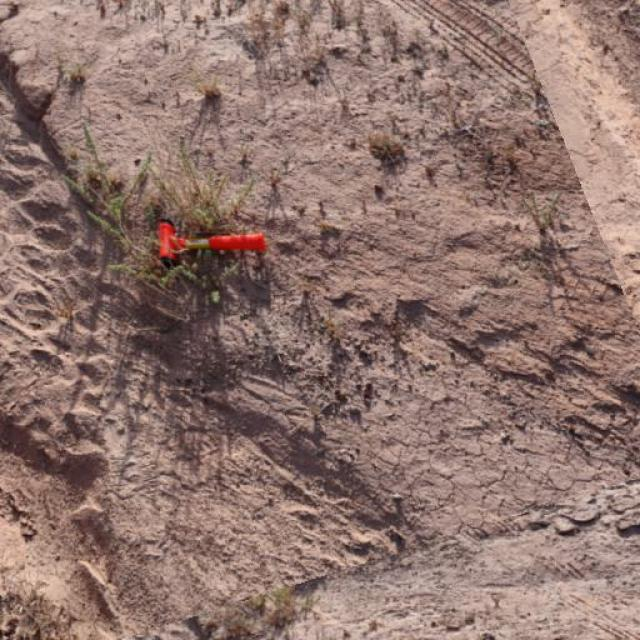mallet: (155, 217, 267, 265)
